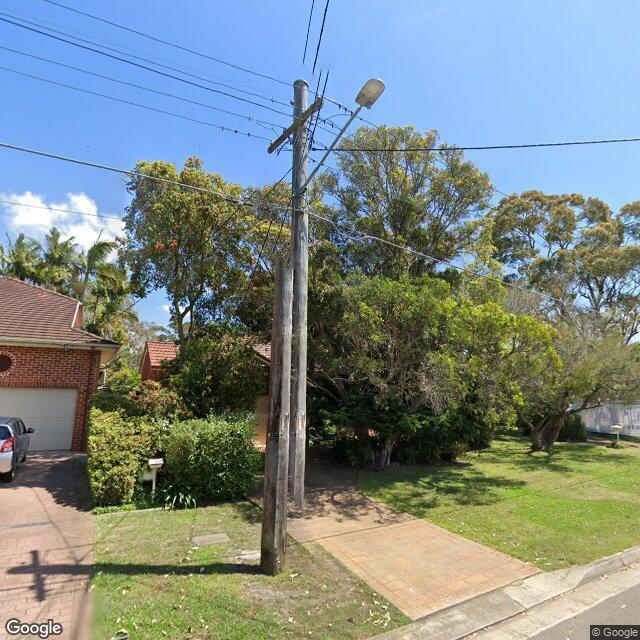crossarm: (266, 96, 324, 154)
streetlight: (294, 78, 387, 197)
timber-pole: (259, 79, 310, 576)
